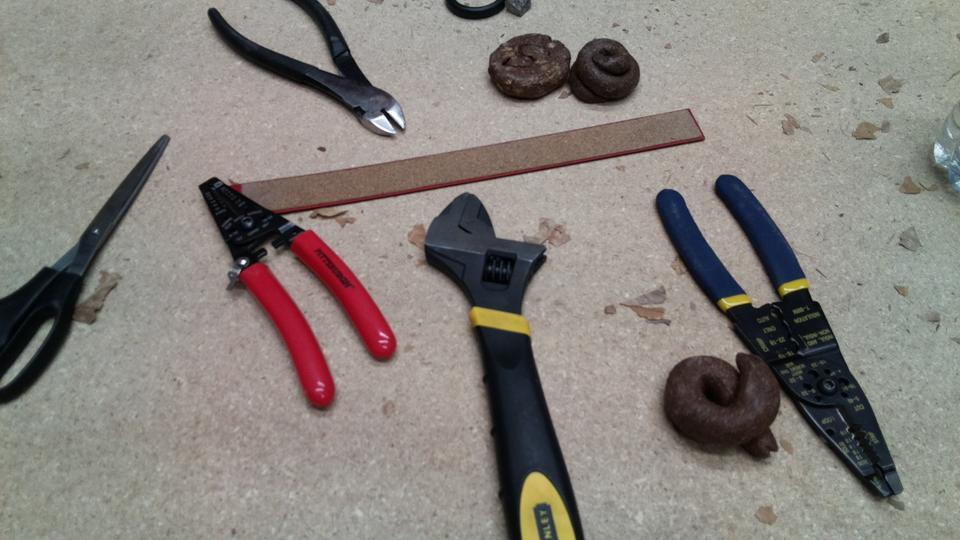poop: (659, 349, 783, 463), (484, 27, 573, 102), (565, 36, 643, 109)
